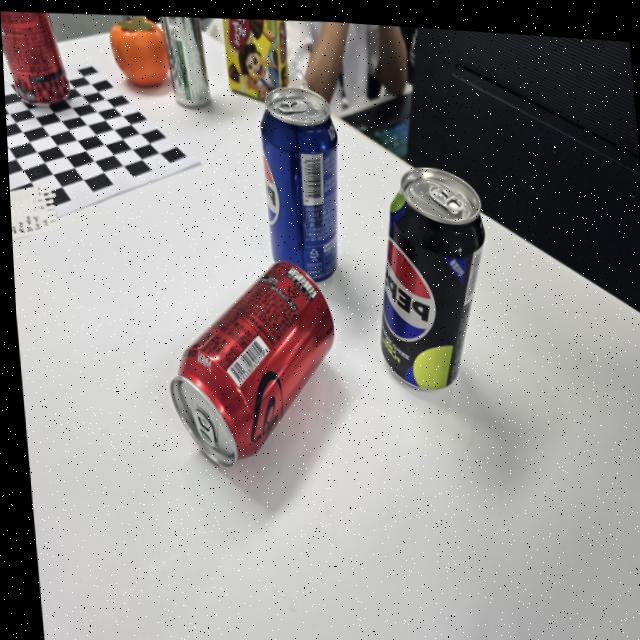can_coke_zero: (170, 261, 334, 467)
can_pepsi: (261, 89, 337, 281)
can_pepsi_zero: (381, 167, 484, 389), (381, 168, 484, 389)
